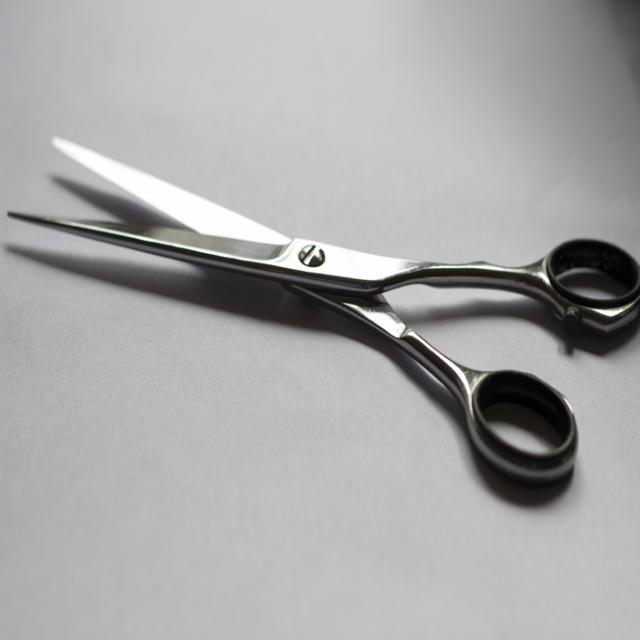scissors: (6, 134, 638, 487)
